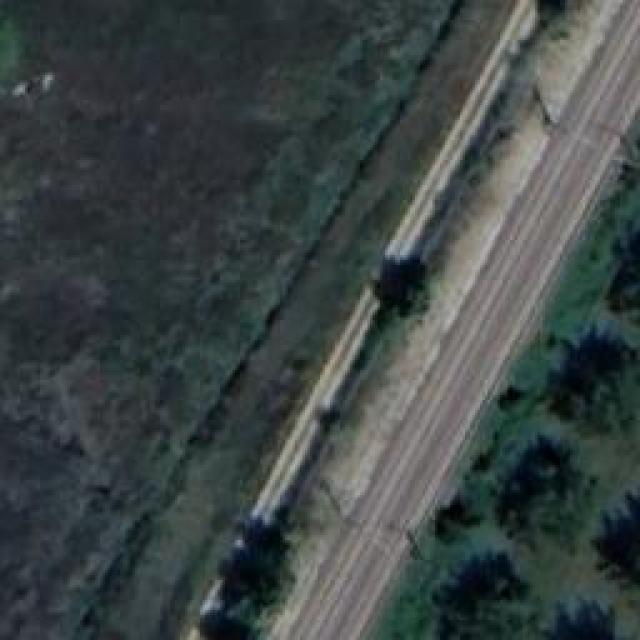Tree: (495, 435, 598, 558), (537, 322, 640, 435), (430, 550, 538, 640), (210, 520, 283, 620), (590, 493, 640, 618), (530, 597, 640, 640), (602, 207, 640, 315), (427, 491, 490, 546), (372, 255, 430, 313)
